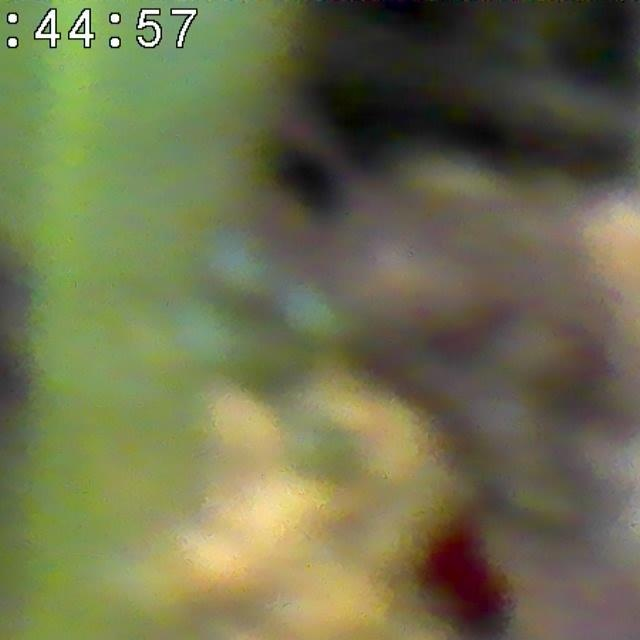SeaGrape: (200, 225, 280, 303), (280, 279, 357, 352)
